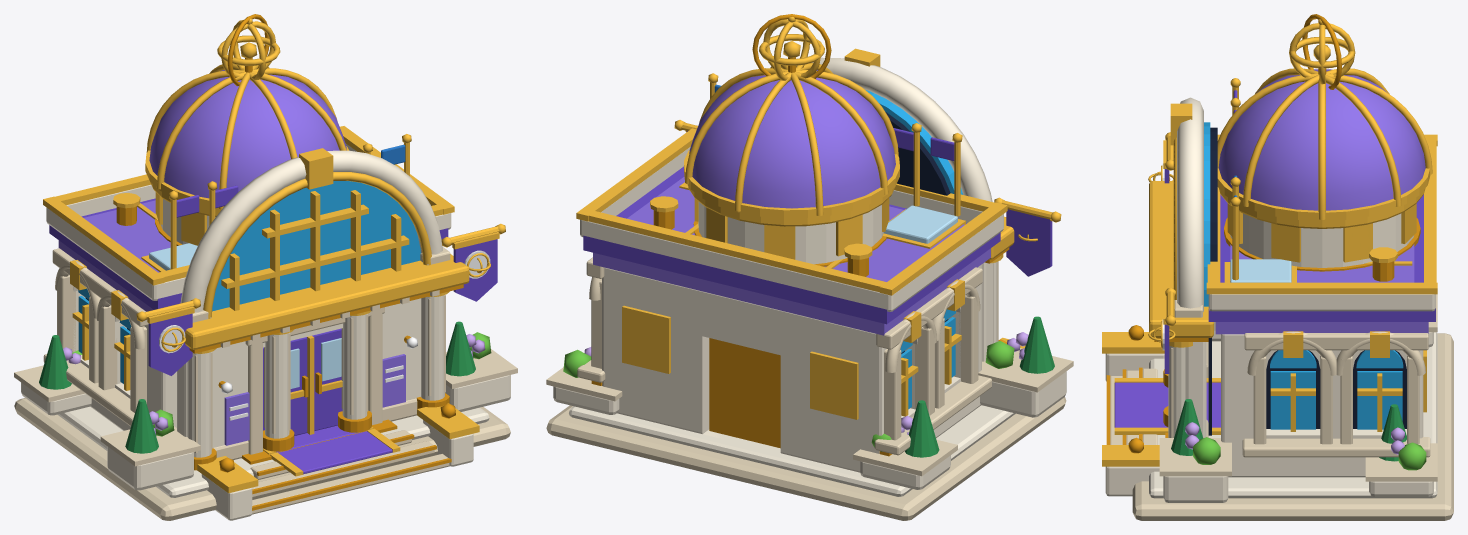
The model's file is international-venue.glb.
3 views of the same model, side by side, from view 1: azimuth 30°, elevation 25°; view 2: azimuth 150°, elevation 25°; view 3: azimuth 270°, elevation 25° (orthographic). The views are drawn at different scales.
Parts seen in each view (by area): view 1: RA_Venue; view 2: RA_Venue; view 3: RA_Venue.
Boxes of the visible parts, x1,y1,x2,y2 form: RA_Venue: [14, 14, 517, 520]; RA_Venue: [546, 14, 1073, 520]; RA_Venue: [1102, 14, 1453, 520].
Size of the model in its own units: 2.56 by 2.56 by 1.95.
